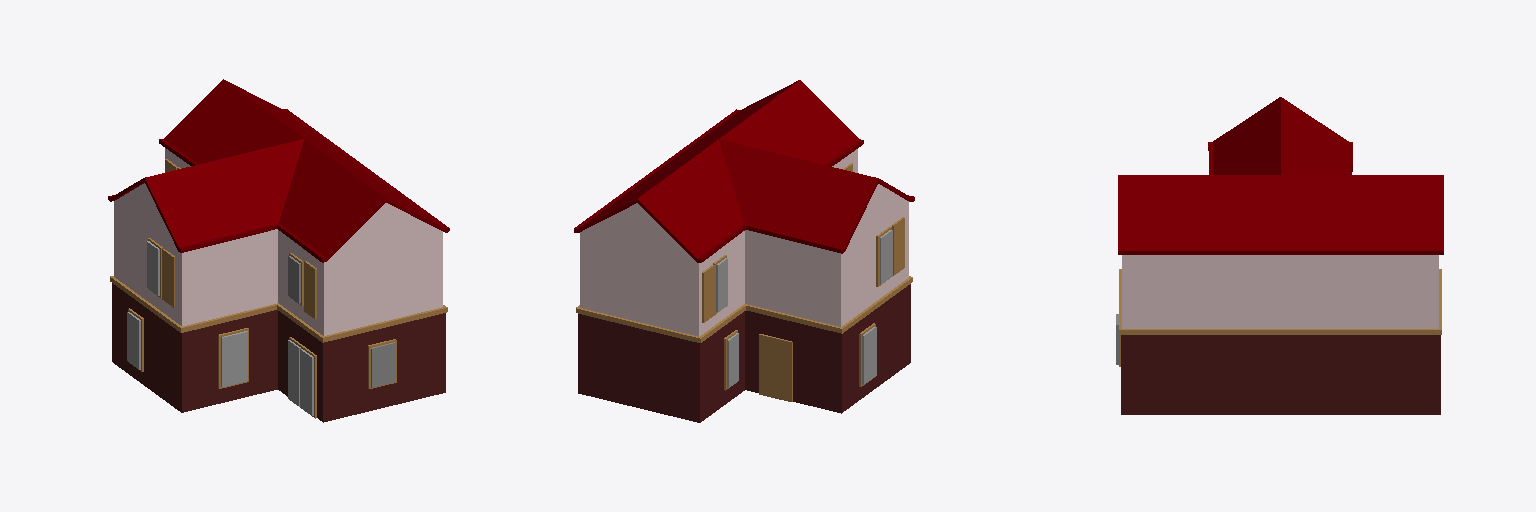
Rendered from detached_house_02a.obj.
The picture shows the model from 3 angles: view 1: azimuth 30°, elevation 25°; view 2: azimuth 150°, elevation 25°; view 3: azimuth 270°, elevation 25°; orthographic projection.
Parts seen in each view (by area): view 1: Box45; view 2: Box45; view 3: Box45.
Boxes of the visible parts, <box> form: Box45: <box>108,79,449,422</box>; Box45: <box>574,80,914,422</box>; Box45: <box>1116,97,1443,414</box>.
Size of the model in its own units: 11.69 by 10.45 by 14.72.